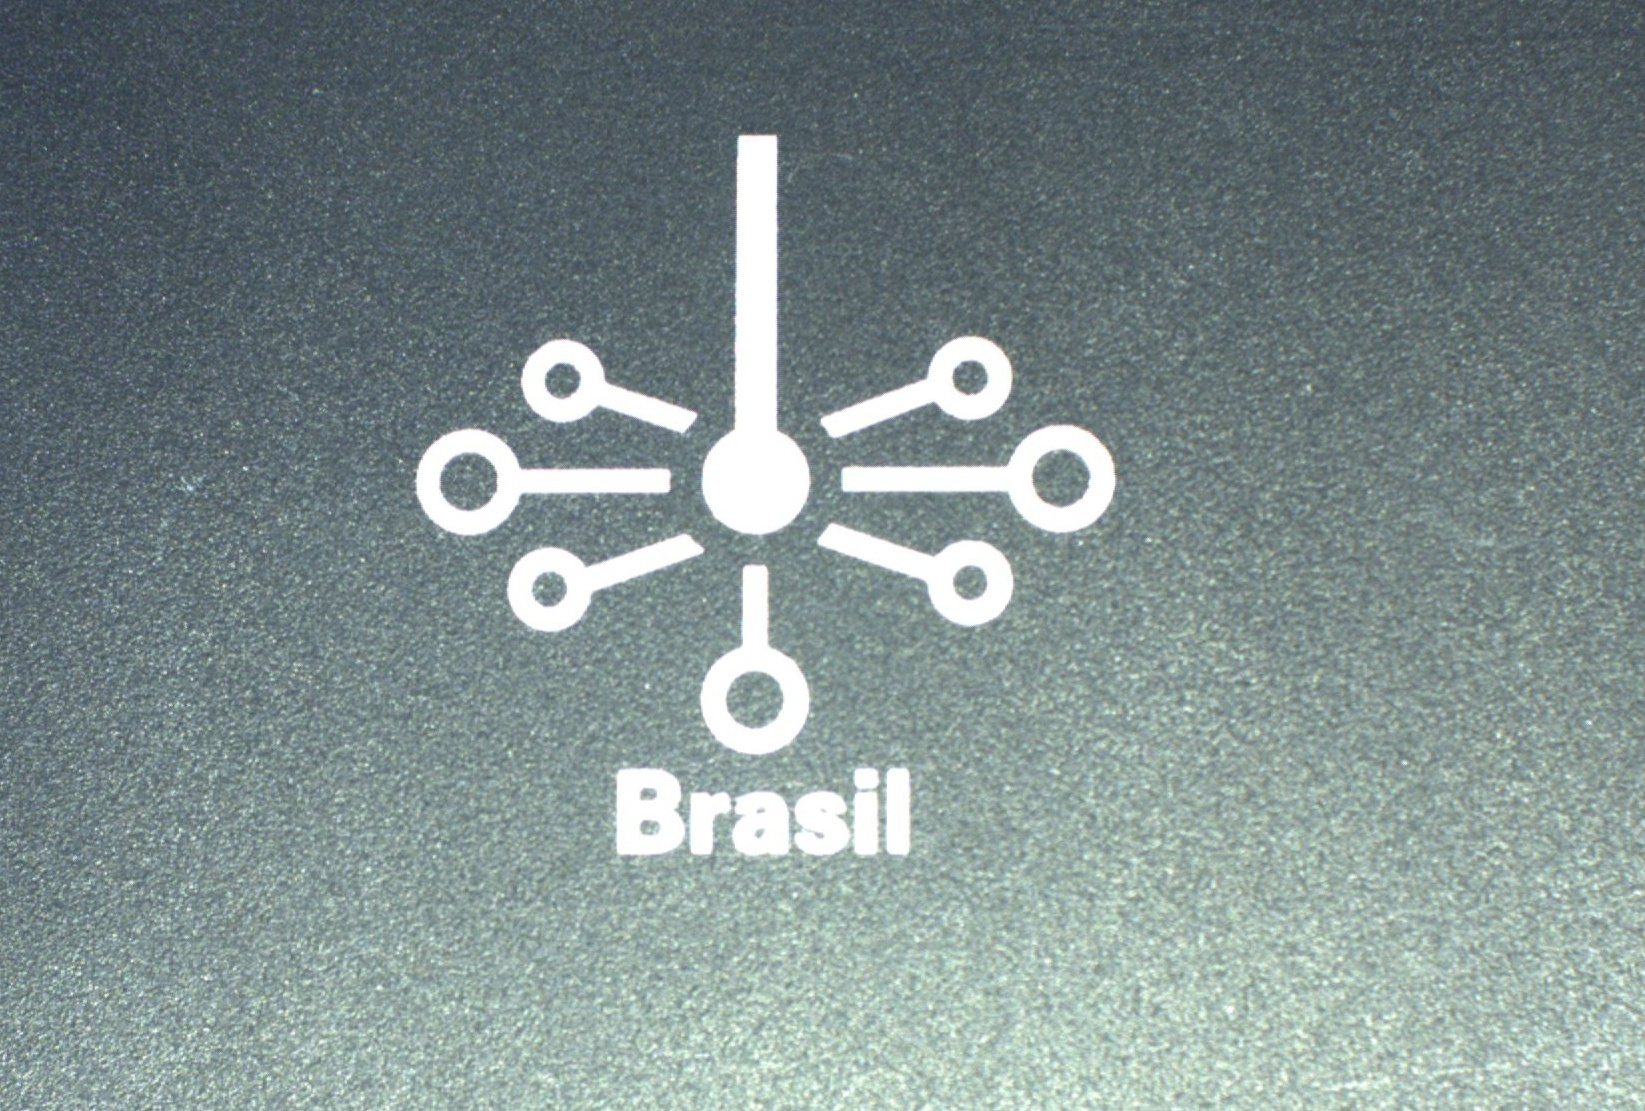BO_Brsail: (386, 122, 1119, 870)
